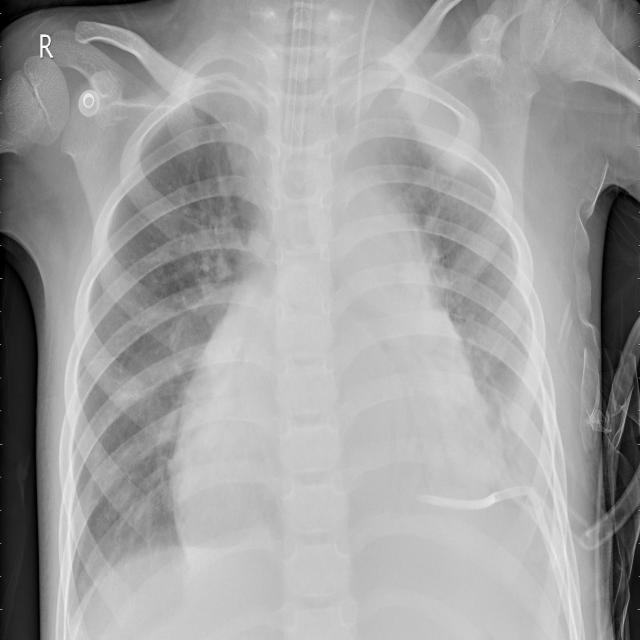high-pneumonia: (369, 75, 480, 204)
low-pneumonia: (494, 328, 562, 485), (164, 206, 243, 329)
